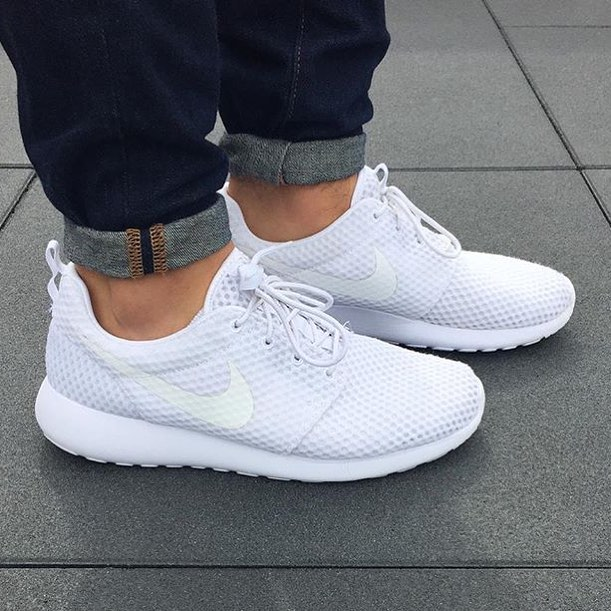sneaker: (18, 212, 518, 493), (218, 134, 587, 372)
